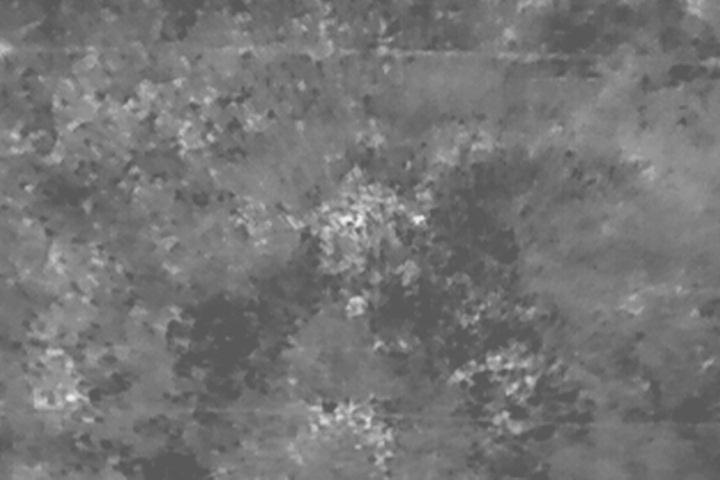landmine: (338, 212, 360, 233)
